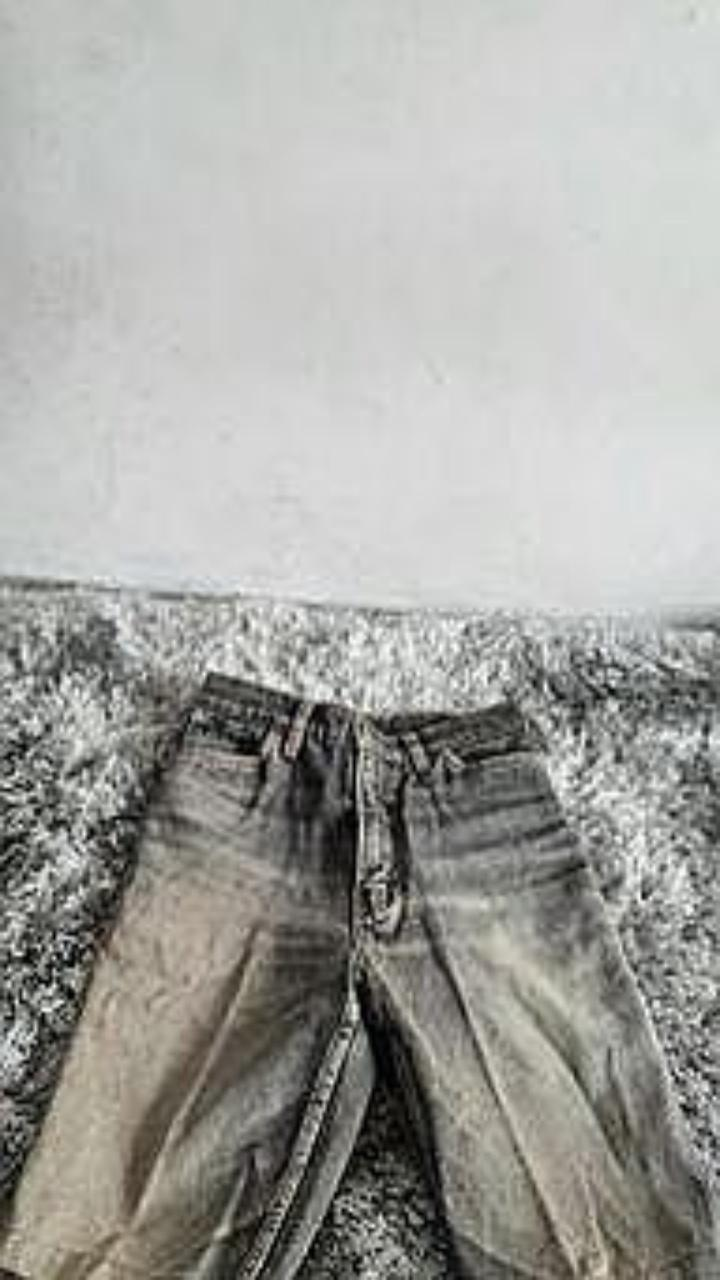Shorts: (0, 671, 719, 1279)
